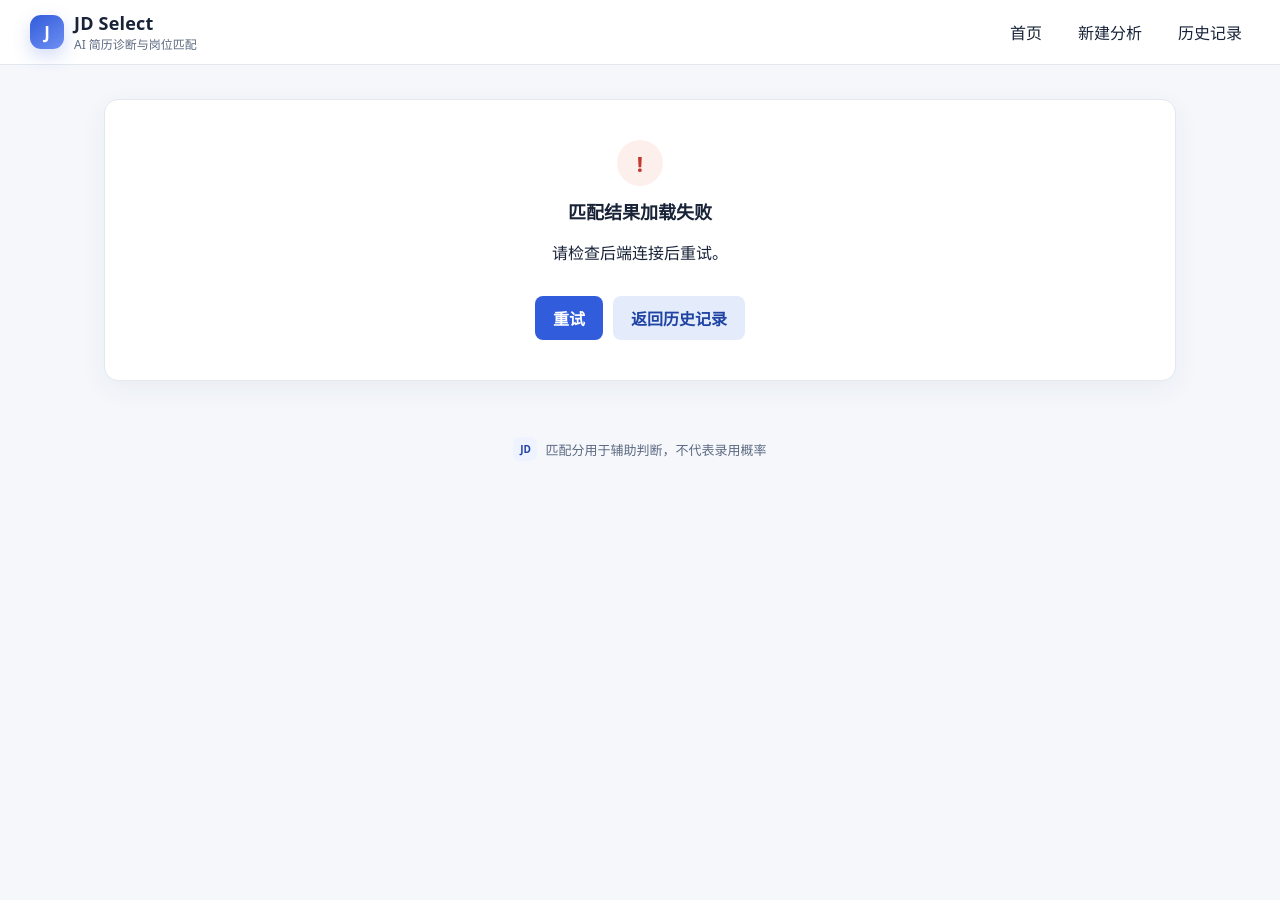
Test: B independent route and recovery regression checks › actually refetches detail after a recoverable error
Click the button "重试": (569, 318) [535,296,603,340]
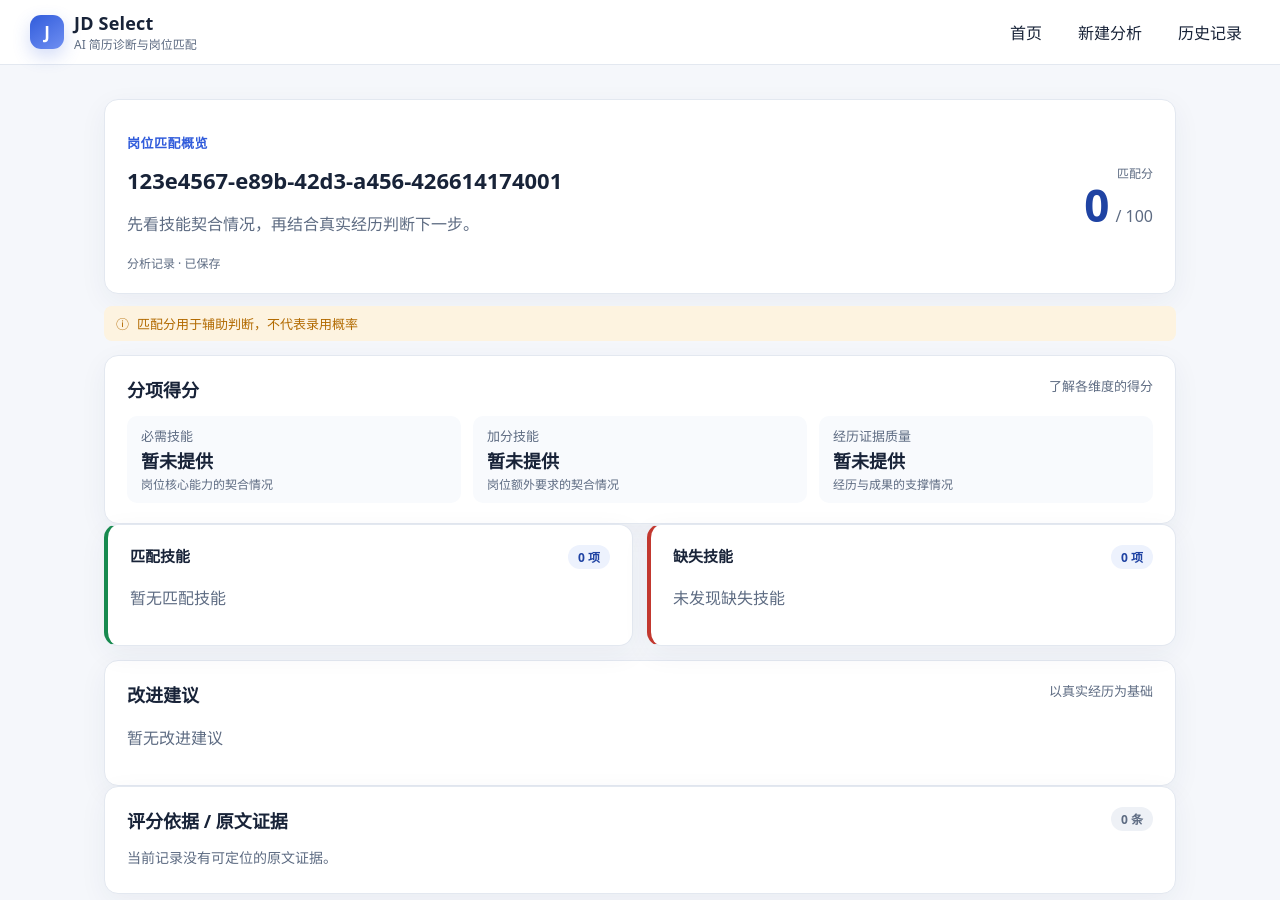
Check: the element named "匹配分 0" is shown, box [1084,182,1153,229]
